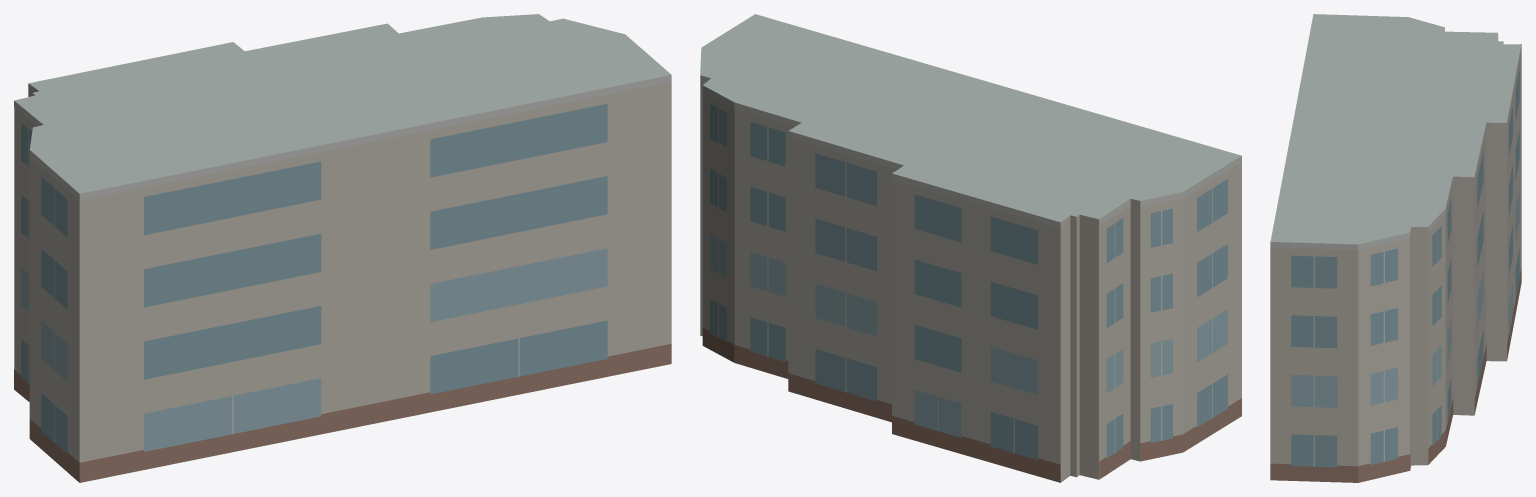
The model's file is survey-upis-32739814.glb.
The picture shows the model from 3 angles, left to right: view 1: azimuth 30°, elevation 25°; view 2: azimuth 150°, elevation 25°; view 3: azimuth 270°, elevation 25°; orthographic projection. The views are drawn at different scales.
Visible parts, largest first — view 1: survey-upis-32739814.tmp; view 2: survey-upis-32739814.tmp; view 3: survey-upis-32739814.tmp.
Boxes of the visible parts, x1=… form: survey-upis-32739814.tmp: x1=14, y1=14, x2=671, y2=482; survey-upis-32739814.tmp: x1=700, y1=14, x2=1241, y2=482; survey-upis-32739814.tmp: x1=1270, y1=14, x2=1521, y2=482.
Bounding box in the file's own units: 21.16 × 10.2 × 9.75.
